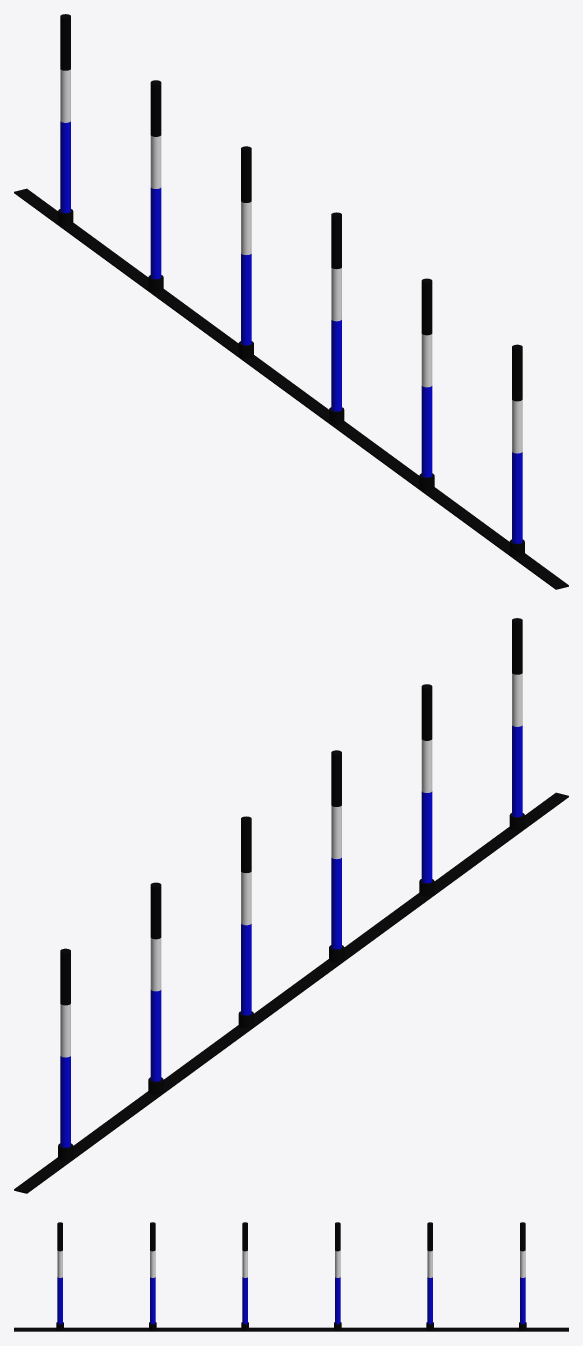
File: Pole-1.dae
3 views of the same model, one above another, from view 1: azimuth 30°, elevation 25°; view 2: azimuth 150°, elevation 25°; view 3: azimuth 270°, elevation 25° (orthographic). The views are drawn at different scales.
Parts seen in each view (by area): view 1: pole (×6), base (×6); view 2: pole (×6), base (×6); view 3: pole (×6), base_1 (×12), base (×6).
Boxes of the visible parts, x1,y1,x2,y2 form: pole (×6): [14, 188, 568, 589]; base (×6): [60, 121, 522, 543]; pole (×6): [14, 792, 568, 1193]; base (×6): [60, 725, 522, 1147]; pole (×6): [14, 1327, 568, 1331]; base_1 (×12): [57, 1222, 525, 1277]; base (×6): [57, 1277, 525, 1324].
Size of the model in its own units: 1.97 by 142 by 30.04.
